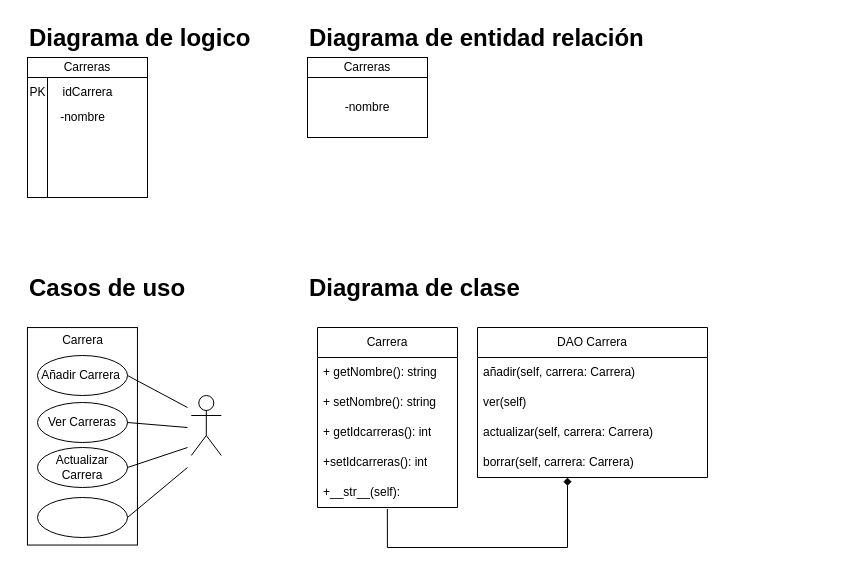
Some shapes in this 846 by 573 pixel diagram are drawn without their labels. The centre of each missing label's shape, as x and y in pixels:
Admin: the point at 205,425
Borrar Carrera: the point at 82,517
